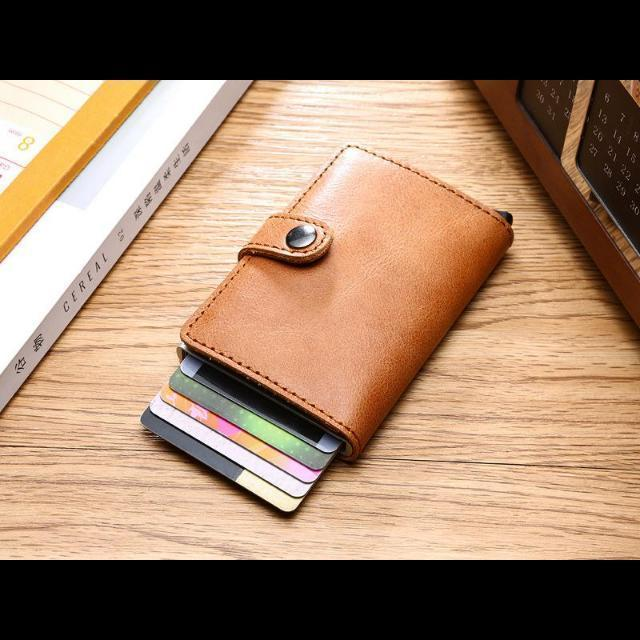wallet: (176, 142, 516, 466)
